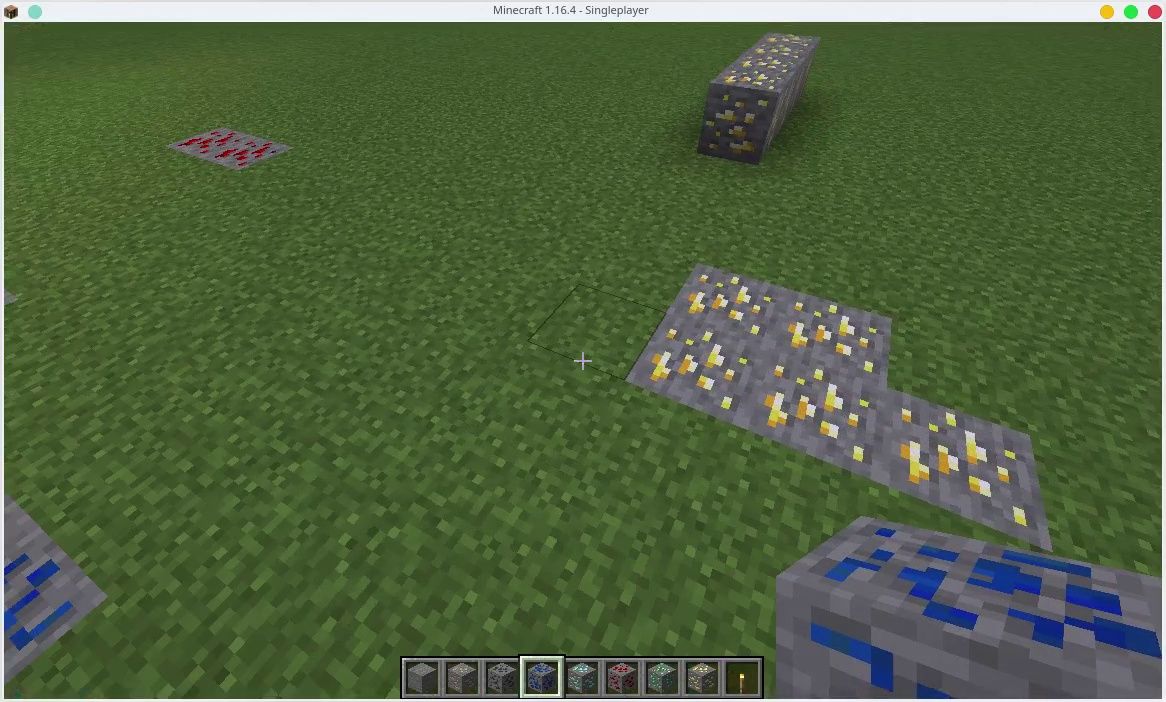gold: (891, 404, 1047, 534), (766, 363, 875, 465), (641, 335, 755, 427), (694, 74, 790, 158), (686, 252, 777, 336), (783, 305, 884, 367), (745, 45, 808, 62), (686, 665, 718, 692), (738, 58, 786, 74), (767, 36, 815, 45)
